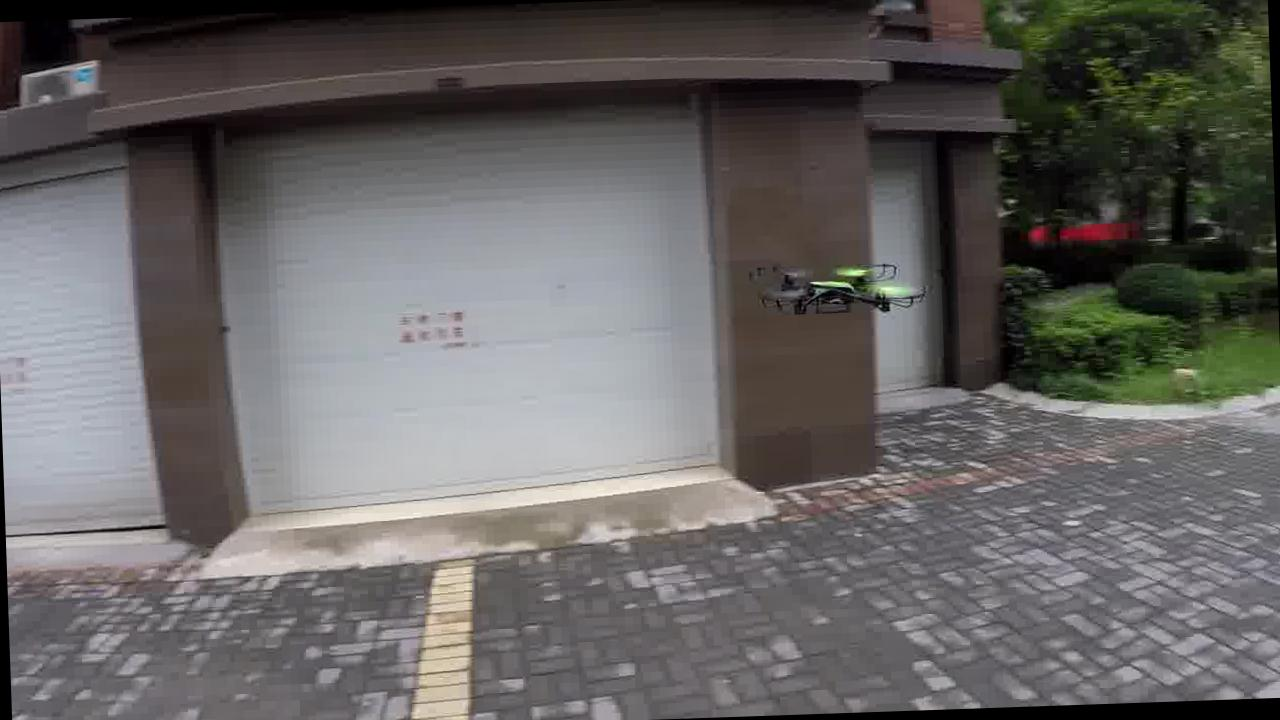drone: (744, 252, 924, 329)
